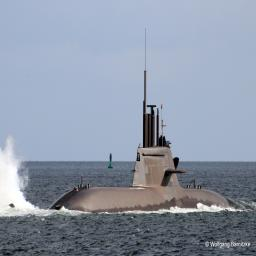submarine: (49, 72, 249, 211)
